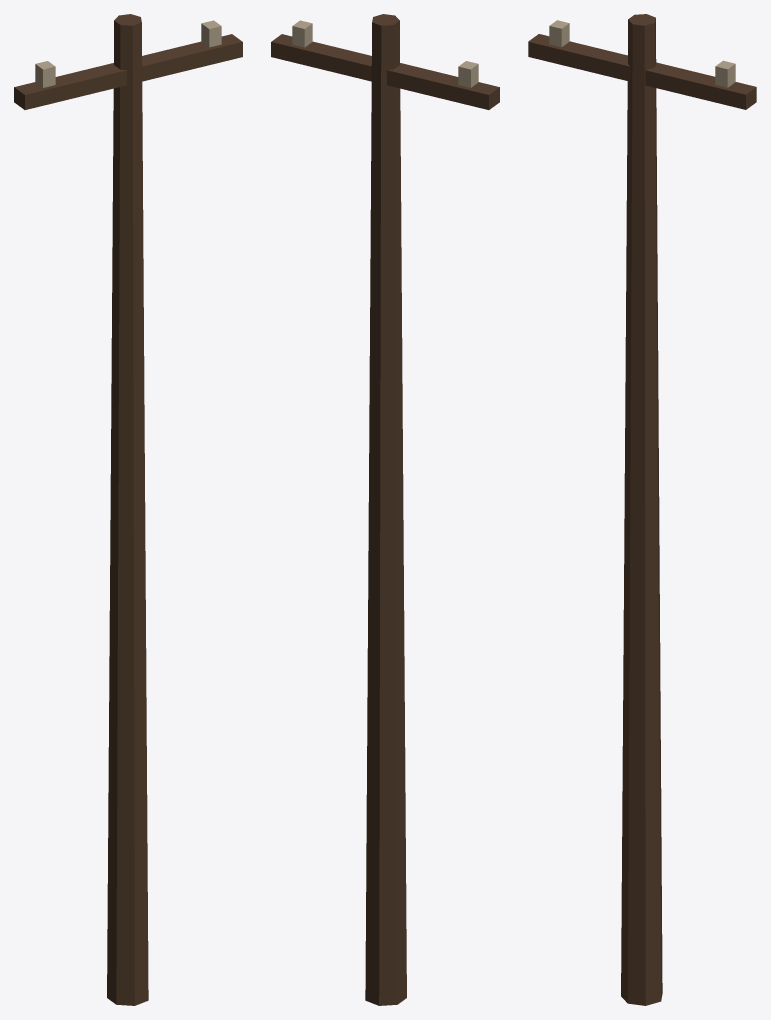
Rendered from utility_pole.glb.
The picture shows the model from 3 angles, left to right: view 1: azimuth 30°, elevation 25°; view 2: azimuth 150°, elevation 25°; view 3: azimuth 330°, elevation 25°; orthographic projection.
Visible parts, largest first — view 1: utility_pole; view 2: utility_pole; view 3: utility_pole.
Part boxes in pixels (bbox=[...]): utility_pole: bbox=[14, 14, 242, 1005]; utility_pole: bbox=[271, 14, 499, 1005]; utility_pole: bbox=[528, 14, 756, 1005].
Size of the model in its own units: 2.1 by 9 by 0.351.
